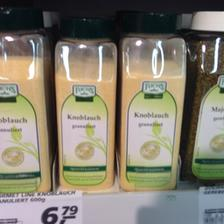Gewuerze: (117, 10, 185, 190), (52, 10, 116, 190), (1, 4, 52, 192), (181, 10, 223, 180)
